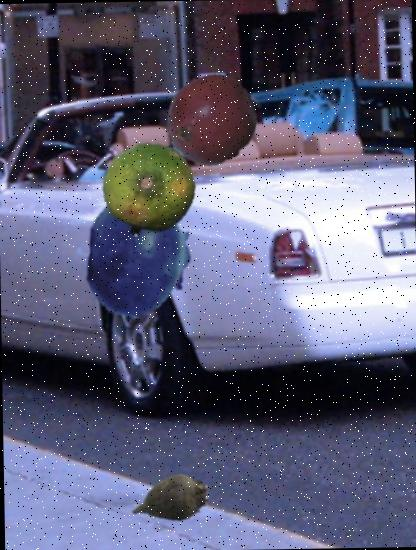Beetroot: (128, 458, 212, 542)
Huckleberry: (76, 193, 202, 318)
Limes: (100, 140, 197, 237)
Pomegranate: (165, 73, 258, 167)
